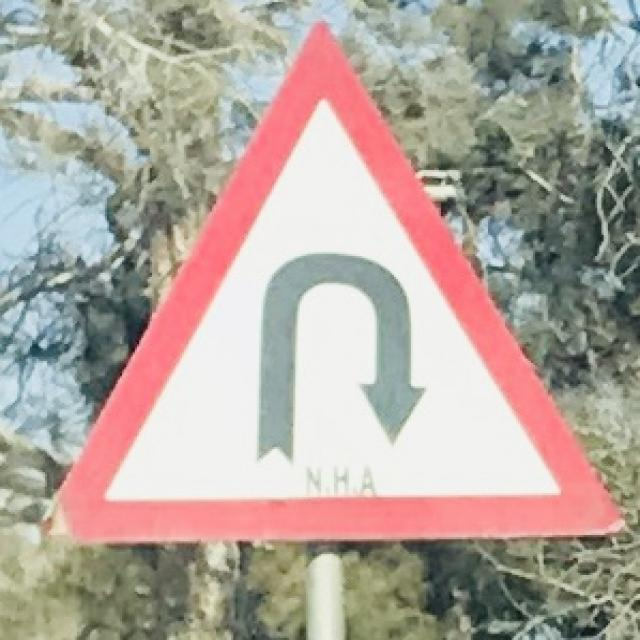u turn: (58, 22, 596, 532)
